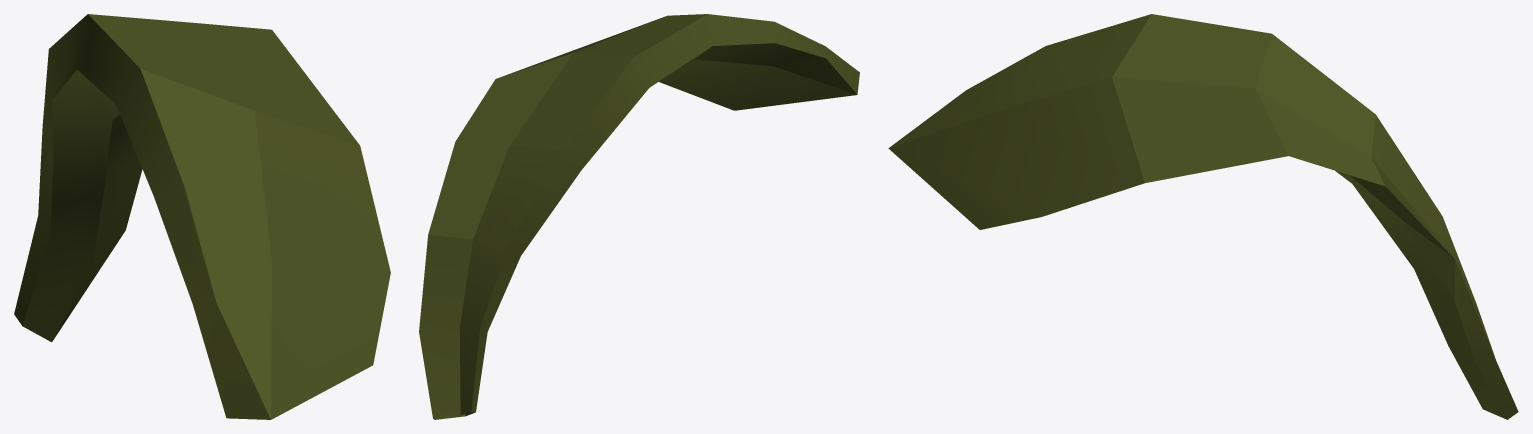
File: ea_swamp_leaf_01a_pre__2__2_lev1.glb
3 renders of one model, left to right at view 1: azimuth 30°, elevation 25°; view 2: azimuth 150°, elevation 25°; view 3: azimuth 270°, elevation 25°, orthographic. The views are drawn at different scales.
Visible parts, largest first — view 1: ea_swamp_leaf_01a_pre__2__2_lev1; view 2: ea_swamp_leaf_01a_pre__2__2_lev1; view 3: ea_swamp_leaf_01a_pre__2__2_lev1.
Boxes of the visible parts, x1,y1,x2,y2 form: ea_swamp_leaf_01a_pre__2__2_lev1: (14,14,390,419); ea_swamp_leaf_01a_pre__2__2_lev1: (419,14,859,419); ea_swamp_leaf_01a_pre__2__2_lev1: (888,14,1518,419).
Size of the model in its own units: 0.593 by 0.9091 by 1.5.
Materials: 1 (1 with a texture image).
